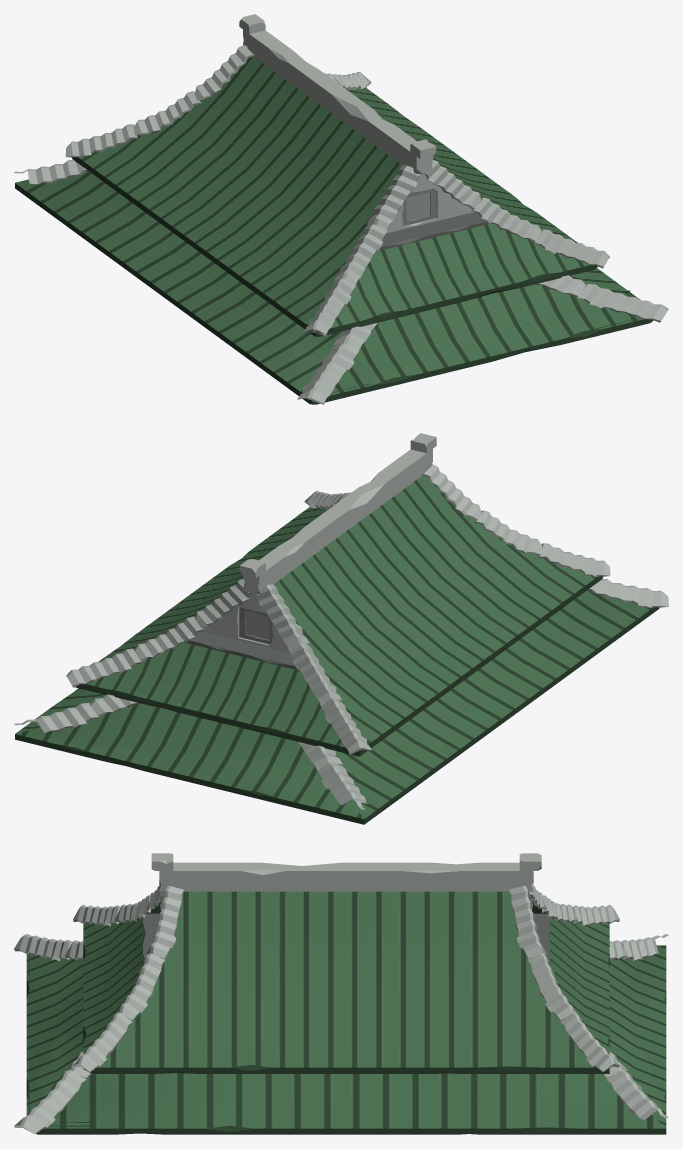
Rendered from SM_Env_Roof_11.fbx.
3 renders of one model, top to bottom at view 1: azimuth 30°, elevation 25°; view 2: azimuth 150°, elevation 25°; view 3: azimuth 270°, elevation 25°, orthographic. The views are drawn at different scales.
Visible parts, largest first — view 1: SM_Env_Roof_11; view 2: SM_Env_Roof_11; view 3: SM_Env_Roof_11.
Boxes of the visible parts, left/top/right/bottom form: SM_Env_Roof_11: left=14, top=14, right=668, bottom=404; SM_Env_Roof_11: left=14, top=433, right=668, bottom=824; SM_Env_Roof_11: left=14, top=853, right=668, bottom=1134.
Size of the model in its own units: 411 by 182 by 582.
1 material, 1 textured.
